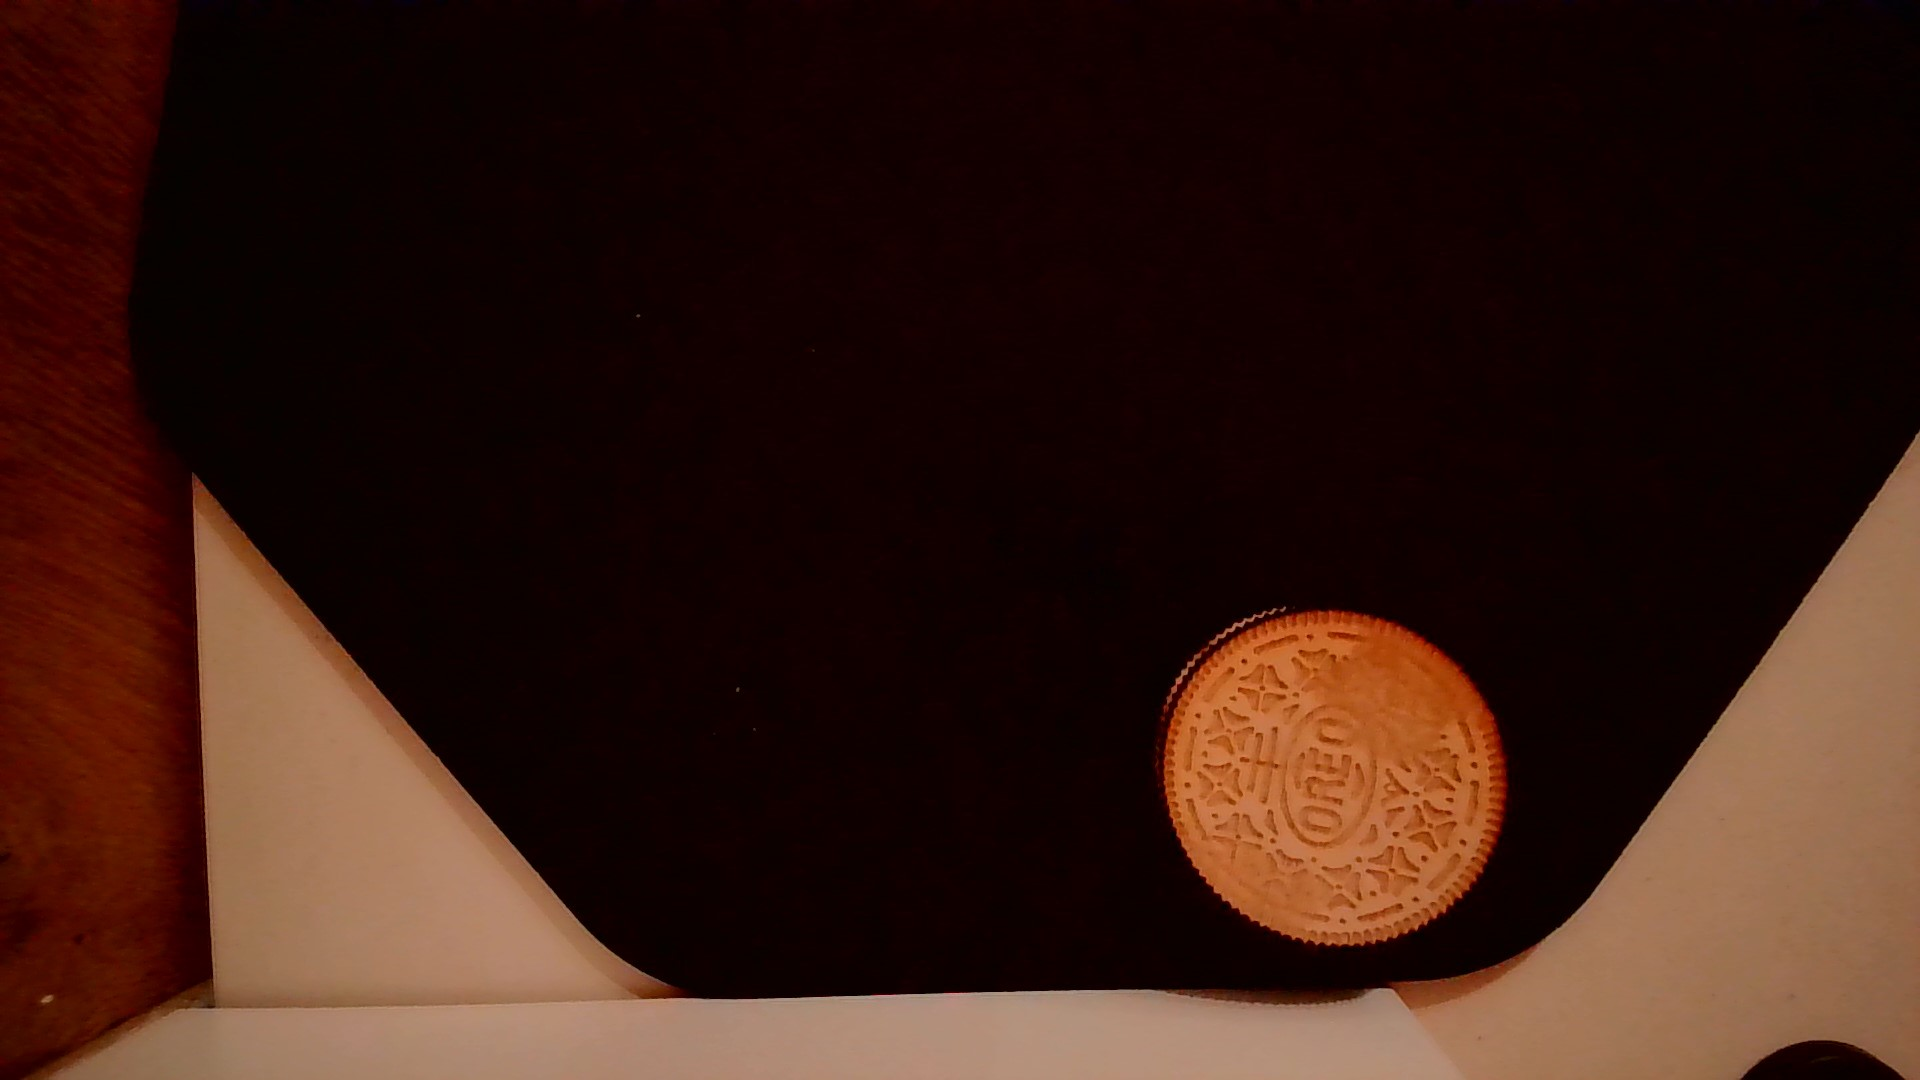Effacé: (1298, 612, 1478, 741), (1204, 847, 1313, 942)
Oréo: (1146, 595, 1511, 955)
